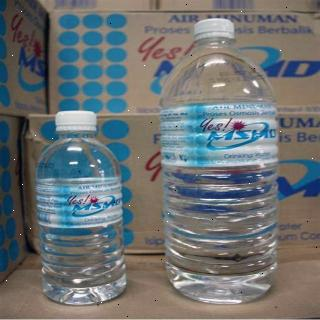Plastic-bottle: (157, 14, 291, 310), (35, 109, 139, 305)
